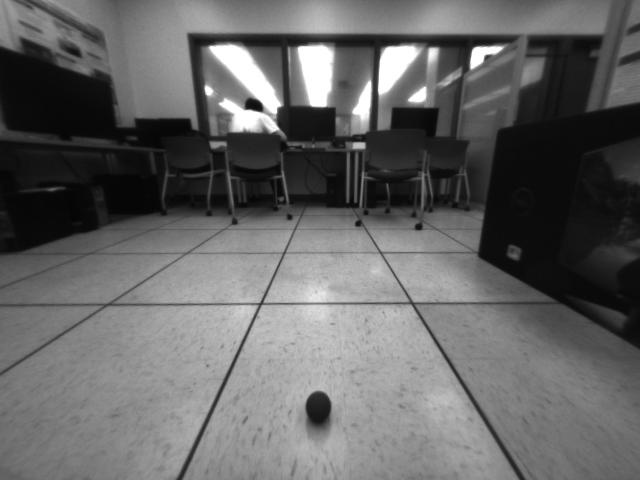dogtoy: (302, 383, 337, 430)
